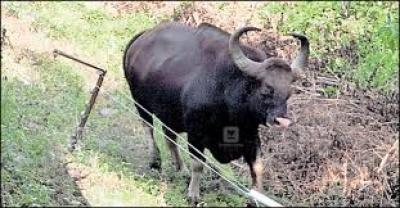buffalo: (123, 21, 315, 180)
